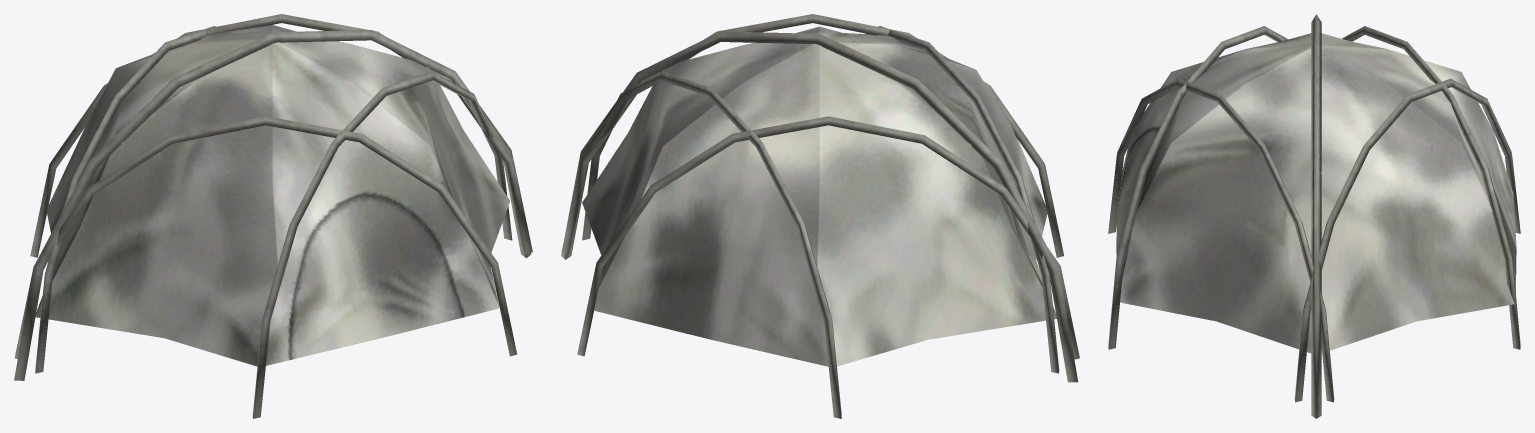
The model's file is eqp_camping_tent_s1_l0.fbx.
3 views of the same model, side by side, from view 1: azimuth 30°, elevation 25°; view 2: azimuth 150°, elevation 25°; view 3: azimuth 270°, elevation 25° (orthographic). The views are drawn at different scales.
Parts seen in each view (by area): view 1: mesh_node; view 2: mesh_node; view 3: mesh_node.
Boxes of the visible parts, x1,y1,x2,y2 form: mesh_node: (14, 14, 532, 418); mesh_node: (561, 14, 1079, 418); mesh_node: (1108, 14, 1520, 418).
Bounding box in the file's own units: 4.39 × 2.32 × 3.28.
